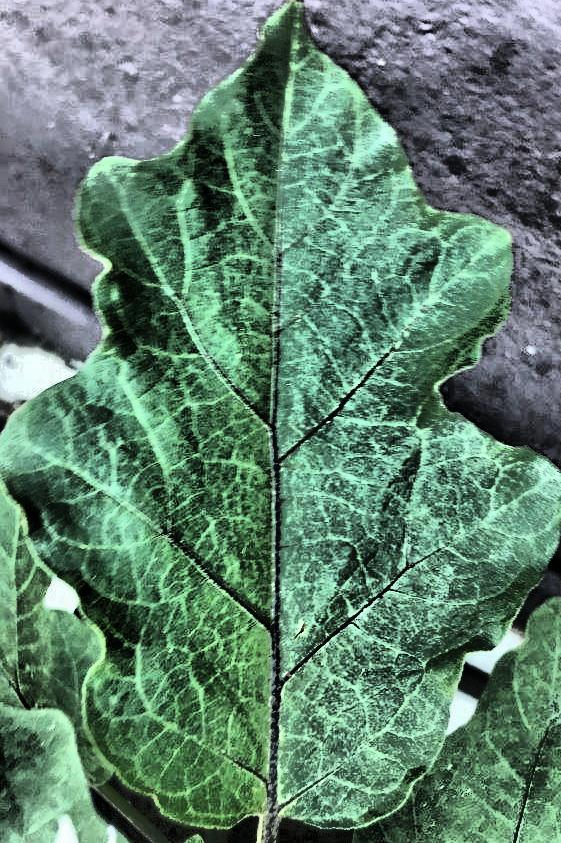HEALTHY: (1, 0, 561, 843)
